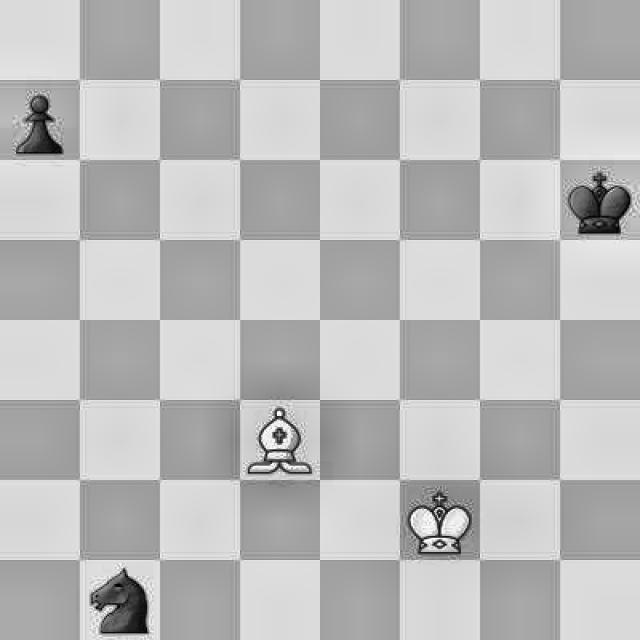Black Knight: (84, 560, 160, 640)
black king: (557, 161, 640, 238)
black pawn: (0, 81, 79, 158)
white bishop: (240, 396, 319, 482)
white king: (398, 478, 482, 560)
